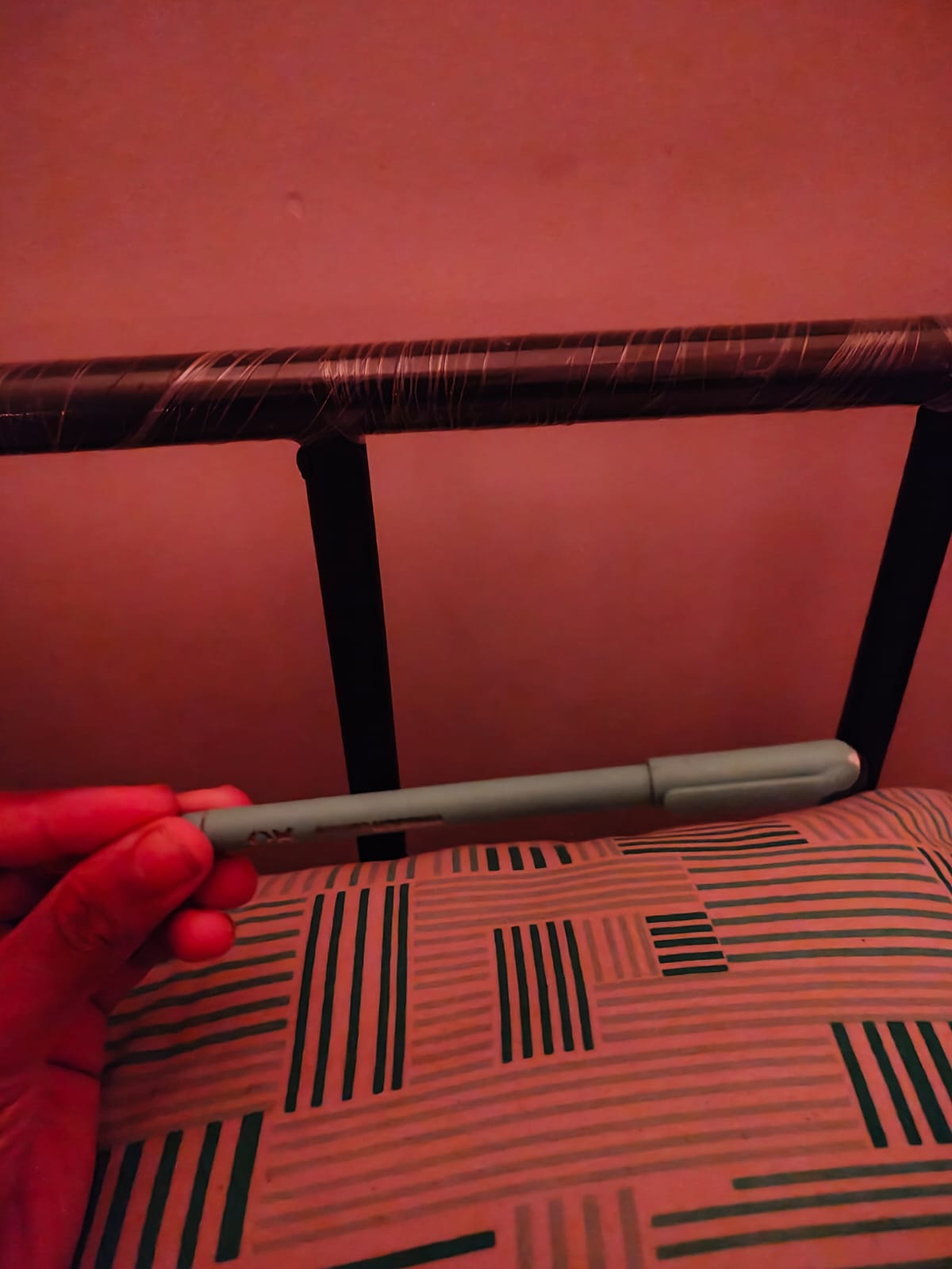pen: (154, 705, 886, 883)
